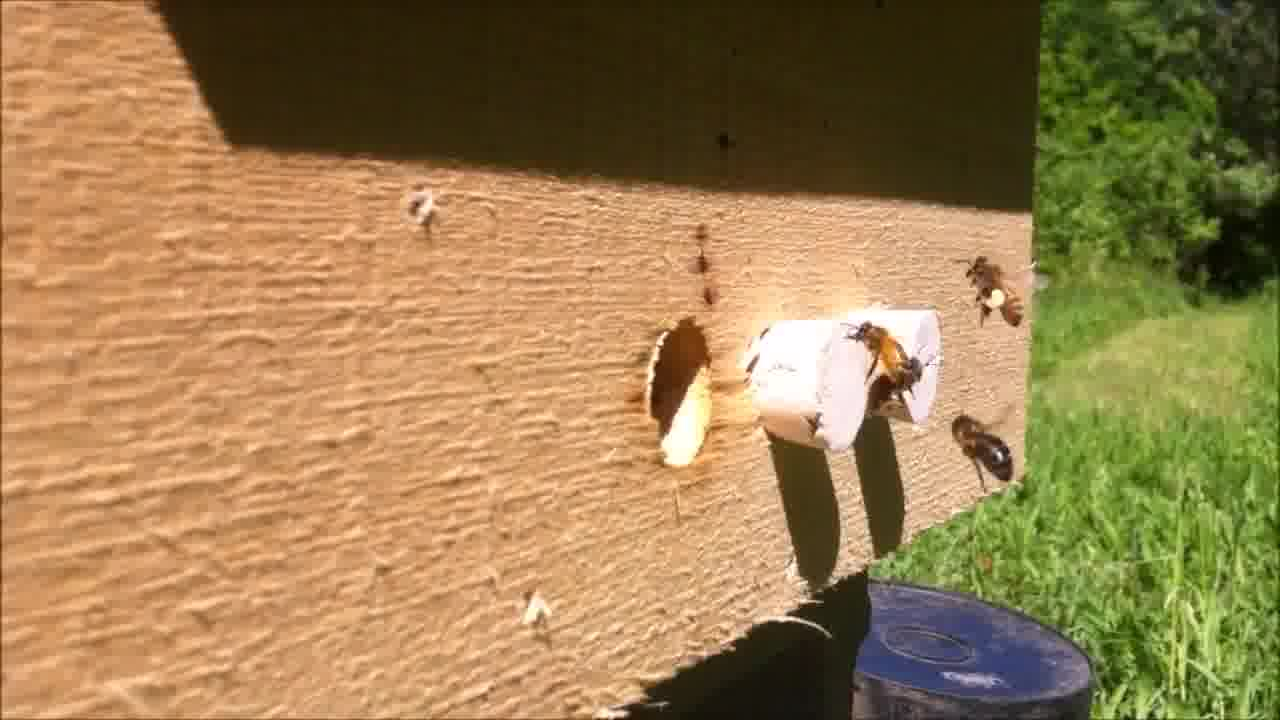pollen: (961, 246, 1030, 338)
